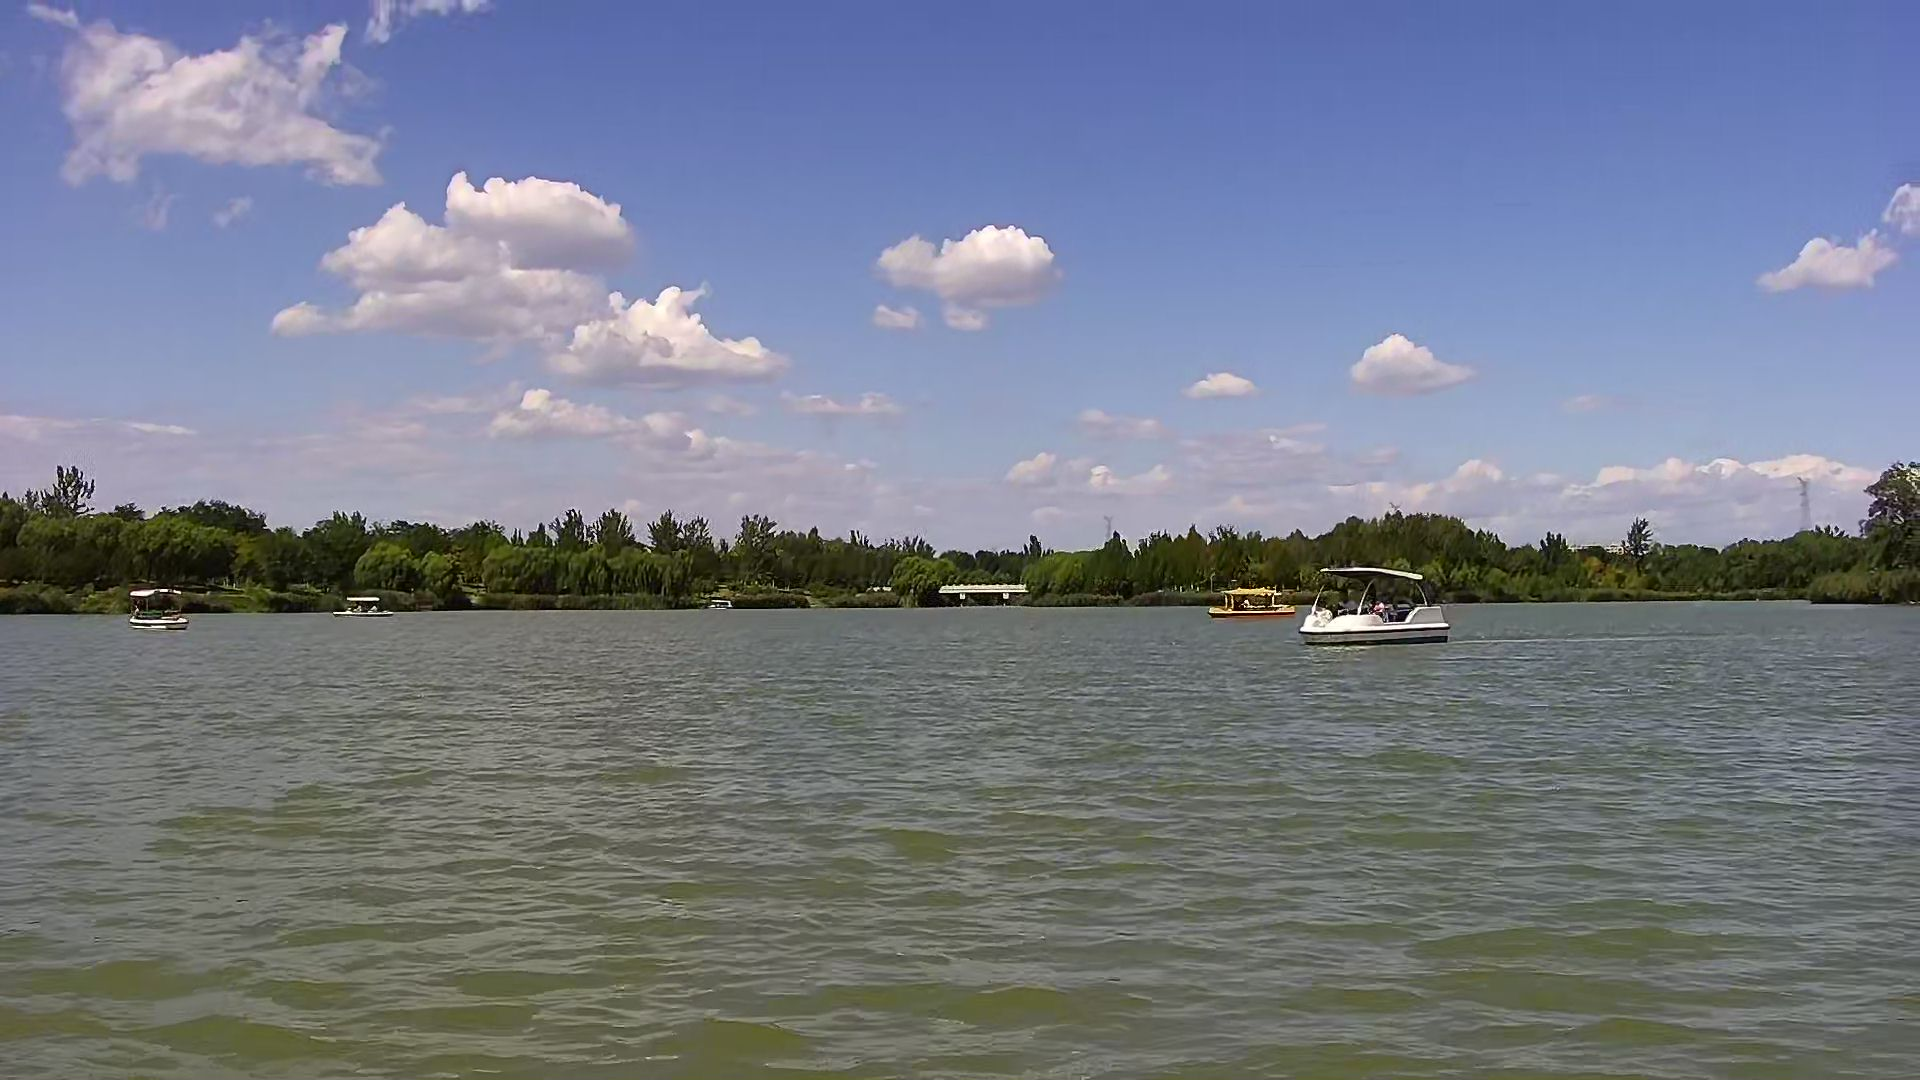boat: (1300, 564, 1455, 653), (128, 587, 191, 636), (1211, 587, 1292, 616), (328, 593, 388, 617)
bridge: (938, 580, 1030, 603)
